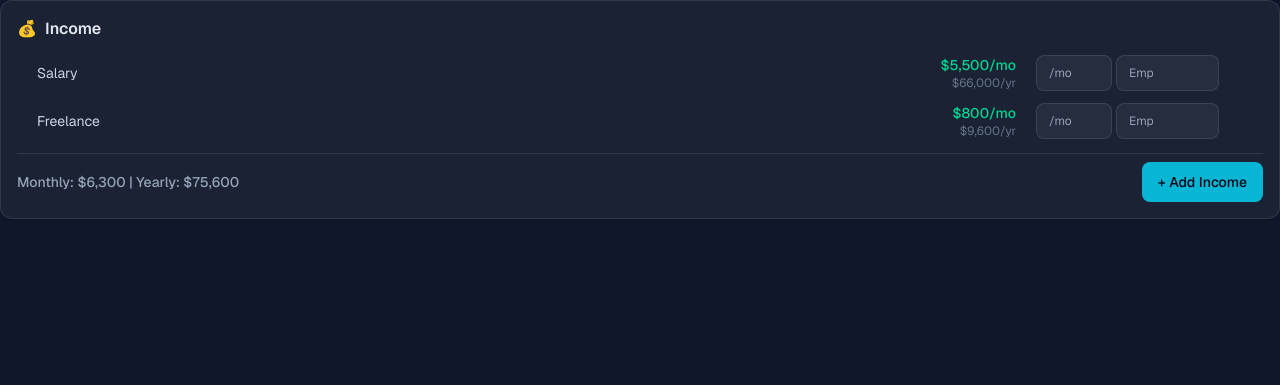
Test case: IncomeEntry component › shows add form when Add Income is clicked
Click the button "+ Add Income" at (1202, 182), box [1142,162,1263,202]
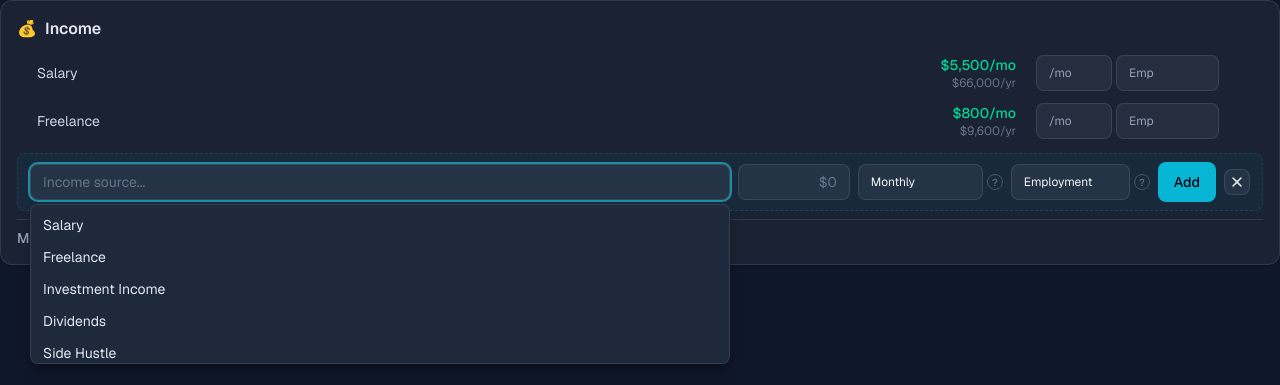
Expected: the field named "New income category" is shown, [30,164,730,200]
Expected: the field named "New income amount" is shown, [738,164,850,200]
